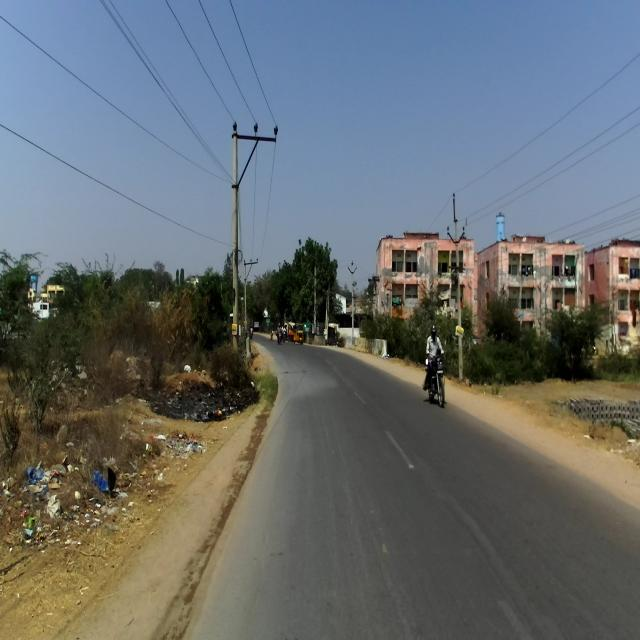high: (270, 326, 273, 342)
